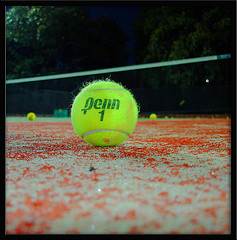tennis ball: (70, 80, 139, 147)
